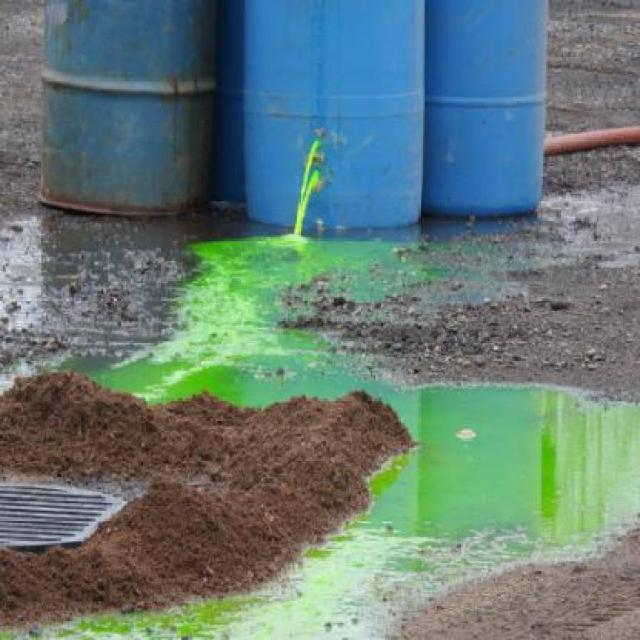spillage: (0, 212, 640, 640)
